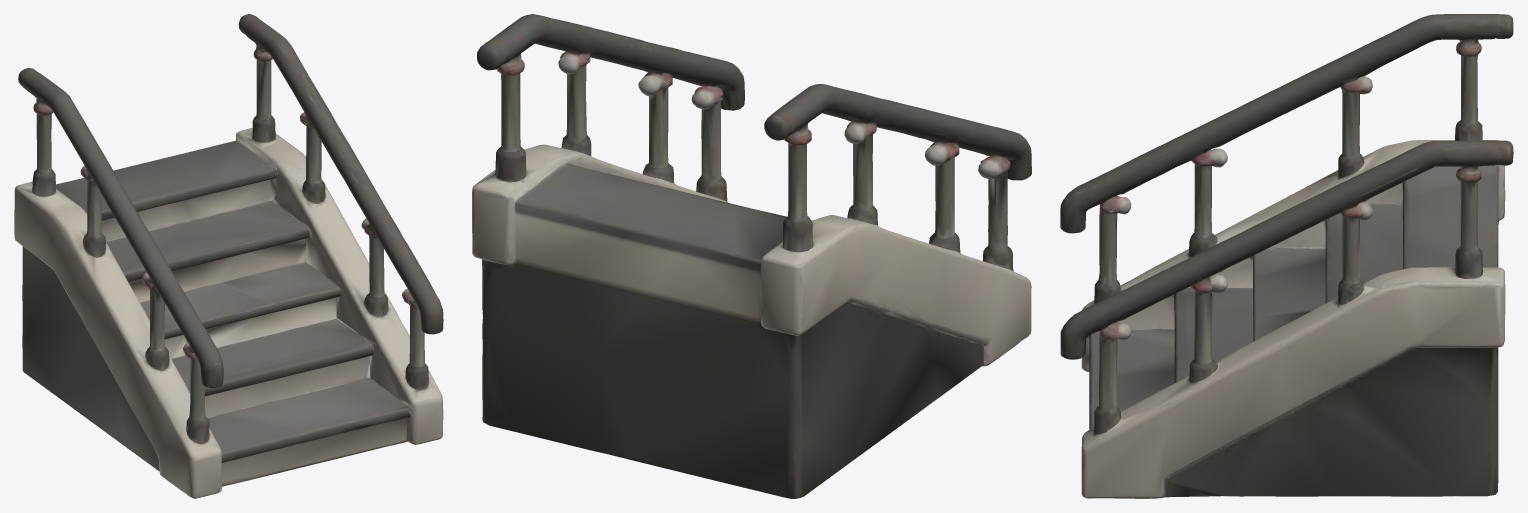
Rendered from internal_stairs.glb.
3 views of the same model, side by side, from view 1: azimuth 30°, elevation 25°; view 2: azimuth 150°, elevation 25°; view 3: azimuth 270°, elevation 25° (orthographic). The views are drawn at different scales.
Parts seen in each view (by area): view 1: geometry_0; view 2: geometry_0; view 3: geometry_0.
Boxes of the visible parts, x1,y1,x2,y2 form: geometry_0: (14, 14, 443, 498); geometry_0: (472, 14, 1031, 498); geometry_0: (1060, 14, 1513, 498).
Size of the model in its own units: 0.7622 by 0.8539 by 1.
1 material, 1 textured.
